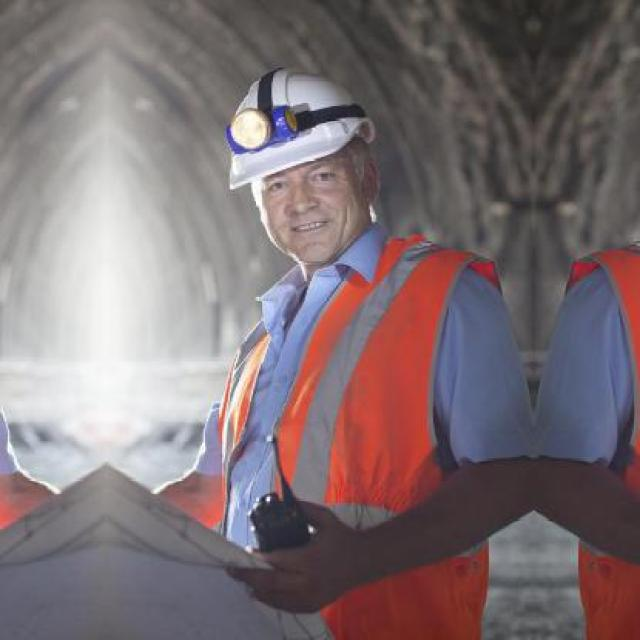helmet: (208, 53, 398, 273)
